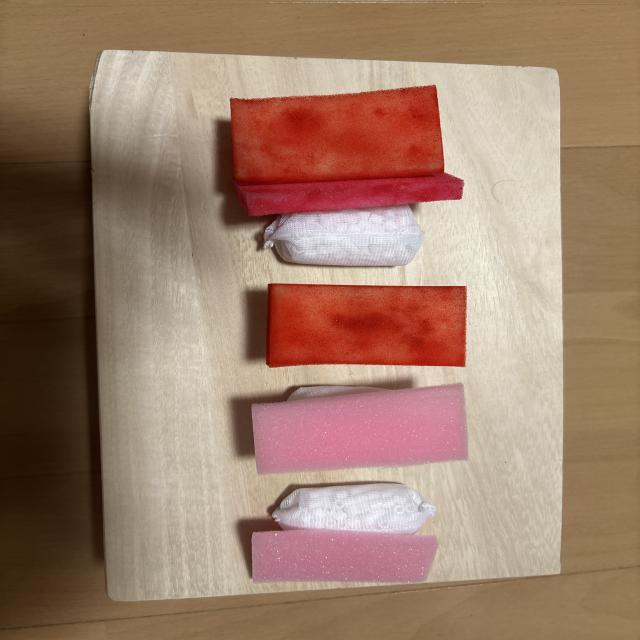NG: (235, 173, 464, 266), (252, 483, 438, 582)
salmon: (231, 87, 443, 185), (266, 283, 466, 367)
tai: (252, 384, 467, 474)
